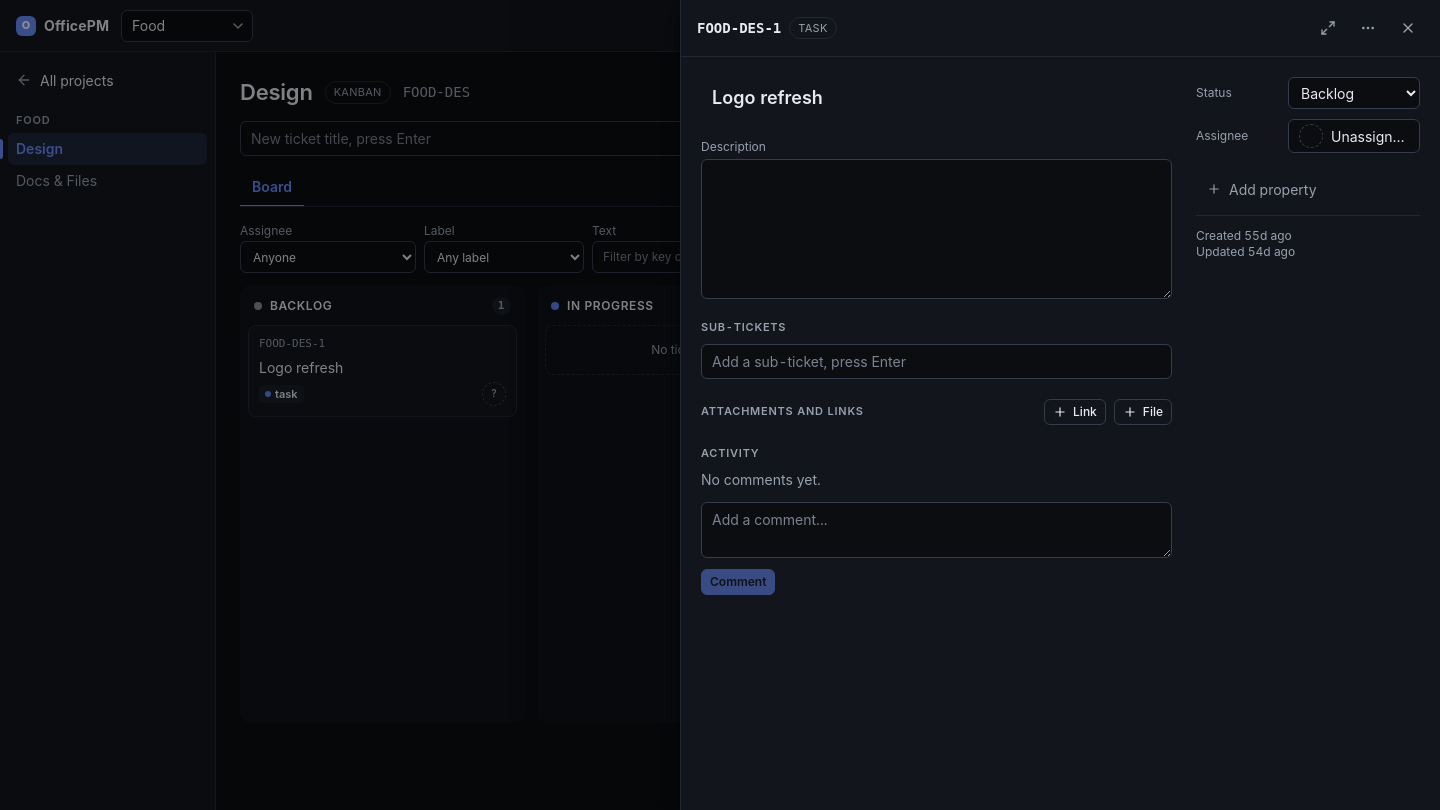
it: ticket drawer › picks an assignee from a searchable list, not a text box
This screenshot has width=1440, height=810.
Expected: the field named "Title" is shown, [701,77,1172,119]
Click the button with aria-label "Assignee: Unassigned": click(1354, 136) [1288,119,1420,153]
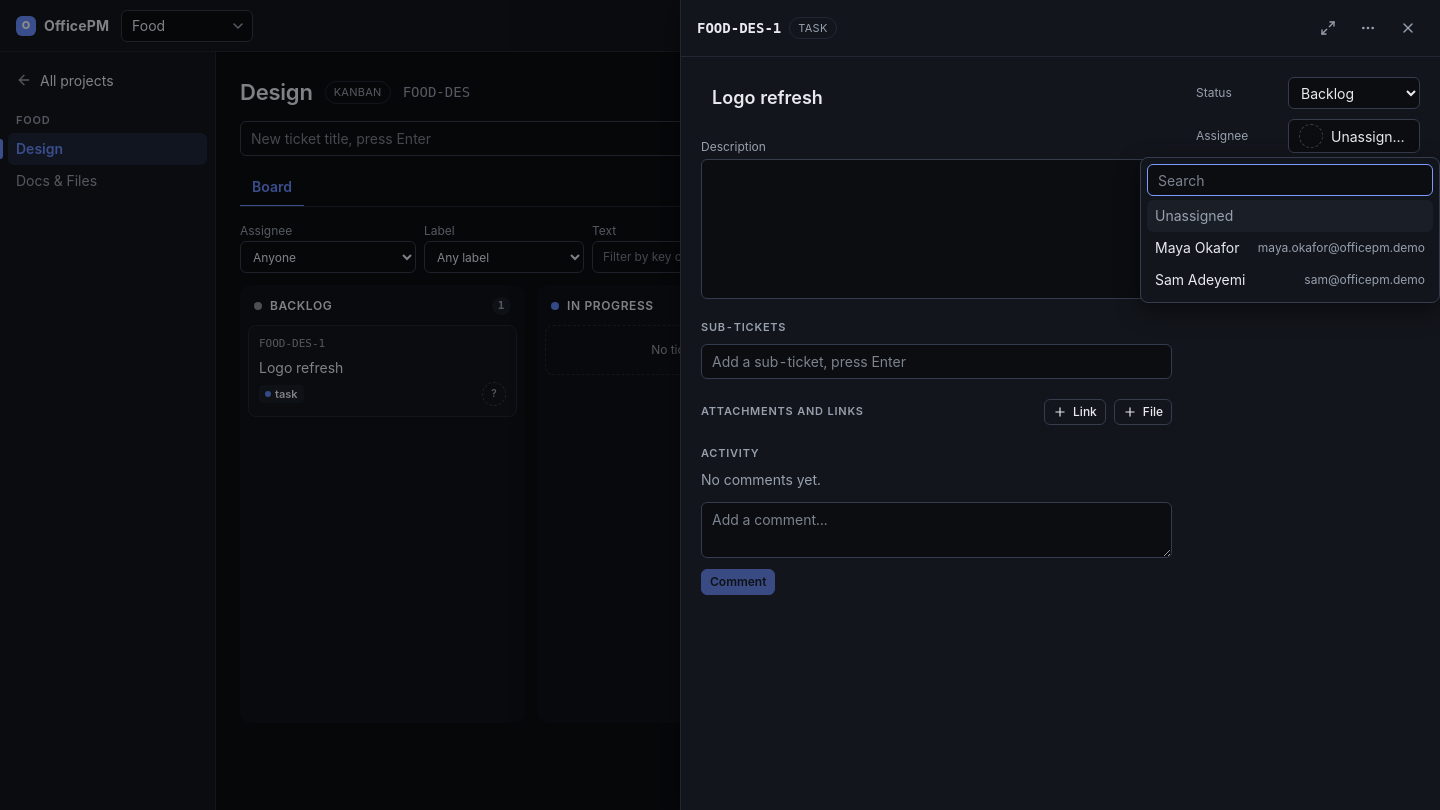
In the dropdown named "Find a person": (1290, 180) [1147,164,1433,196], type "sam"
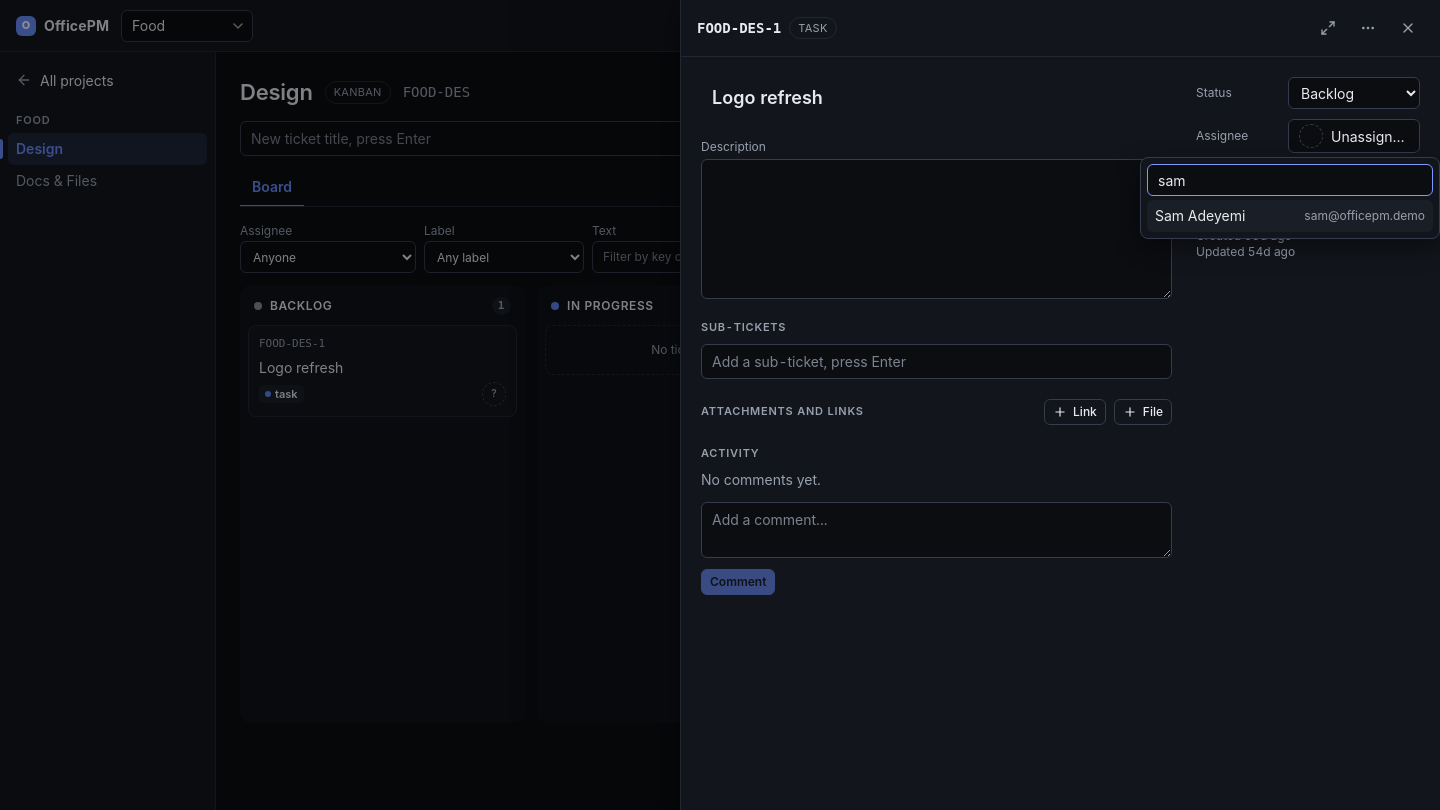
Click the option "Sam Adeyemi sam@officepm.demo": click(1200, 216) [1147,200,1433,232]
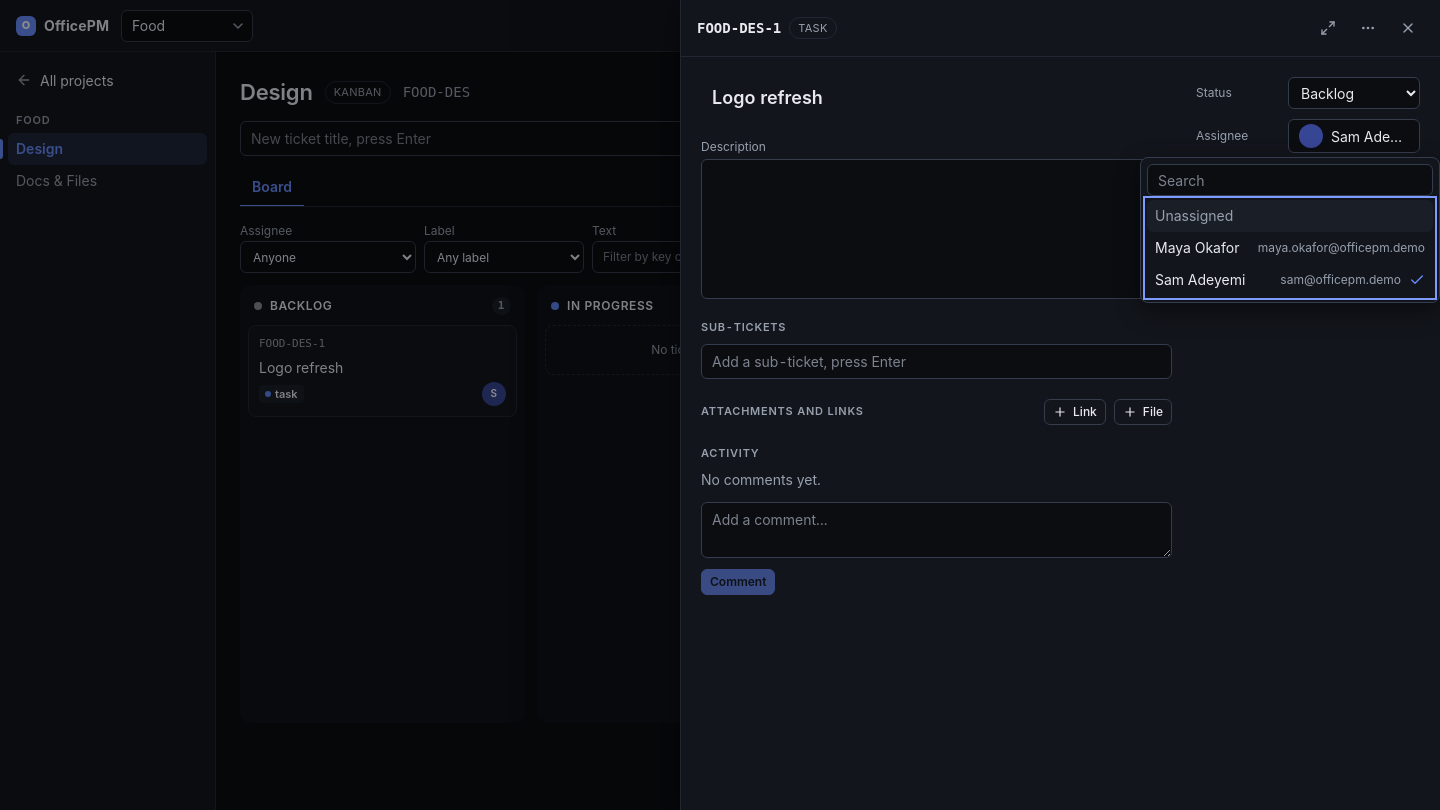
Expected: the button with aria-label "Assignee: Sam Adeyemi" is shown, [1288,119,1420,153]
